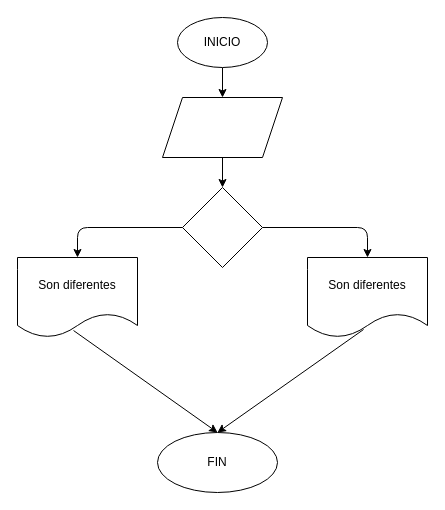
The diagram is 445 pixels wide and 510 high, and some of its shapes have lost their labels. The shapes that lost their labels are listed below. From the top down, each one's box as (x1, y1, x2, y2) in pixels, then its label:
(162, 96, 282, 158): a,b
(182, 186, 262, 268): x !=y
